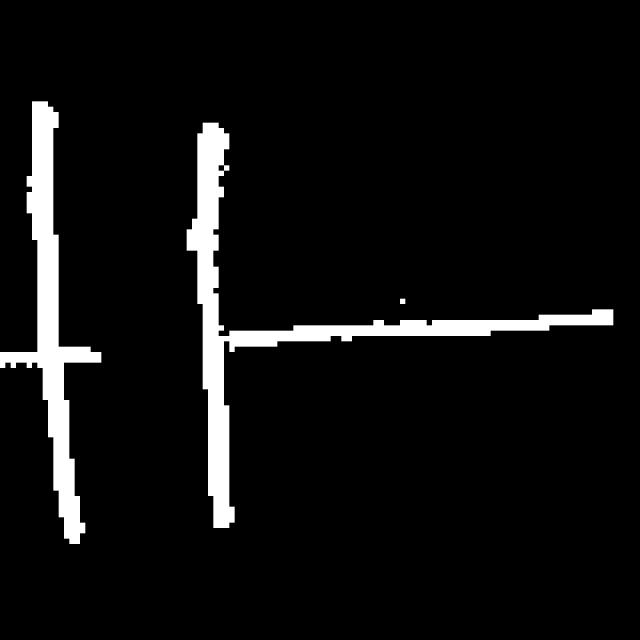capacitor: (20, 82, 270, 537)
